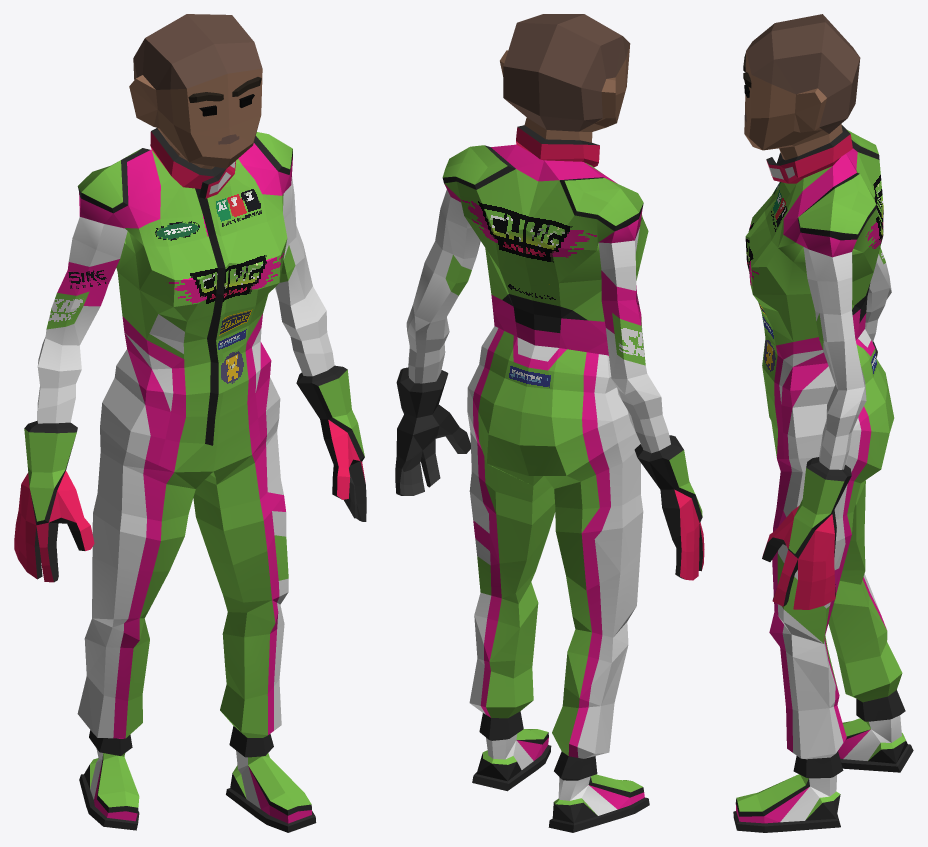
The model's file is driver-c.glb.
3 views of the same model, side by side, from view 1: azimuth 30°, elevation 25°; view 2: azimuth 150°, elevation 25°; view 3: azimuth 270°, elevation 25° (orthographic). The views are drawn at different scales.
Parts seen in each view (by area): view 1: driver-c; view 2: driver-c; view 3: driver-c.
Part boxes in pixels (box(x1,y1,x2,y2)): driver-c: box(14, 14, 366, 832); driver-c: box(395, 14, 704, 832); driver-c: box(733, 14, 913, 832).
Size of the model in its own units: 0.7428 by 1.79 by 0.3803.
Materials: 1 (1 with a texture image).
